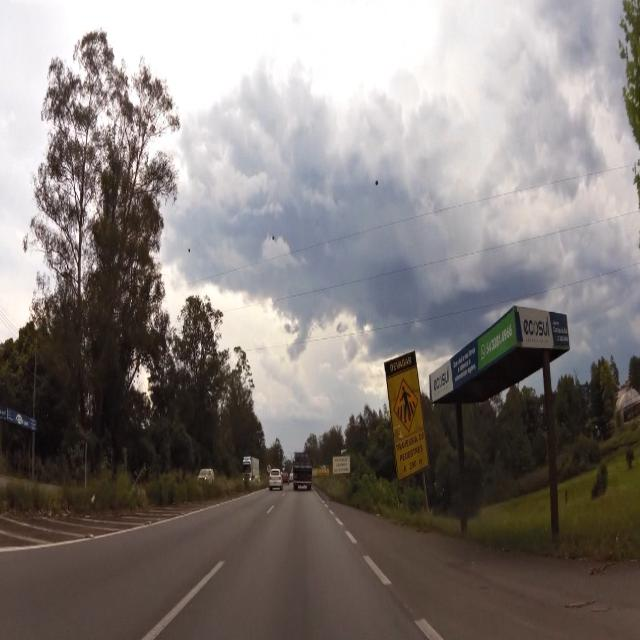A-32b: (394, 377, 421, 430)
